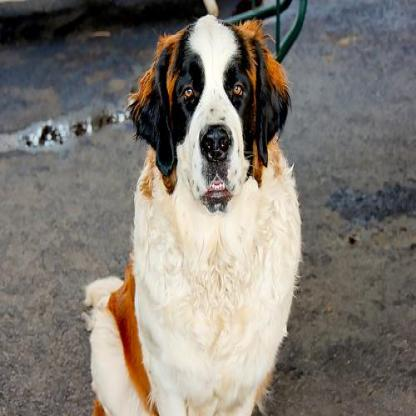Saint_Bernard: (79, 10, 302, 413)
